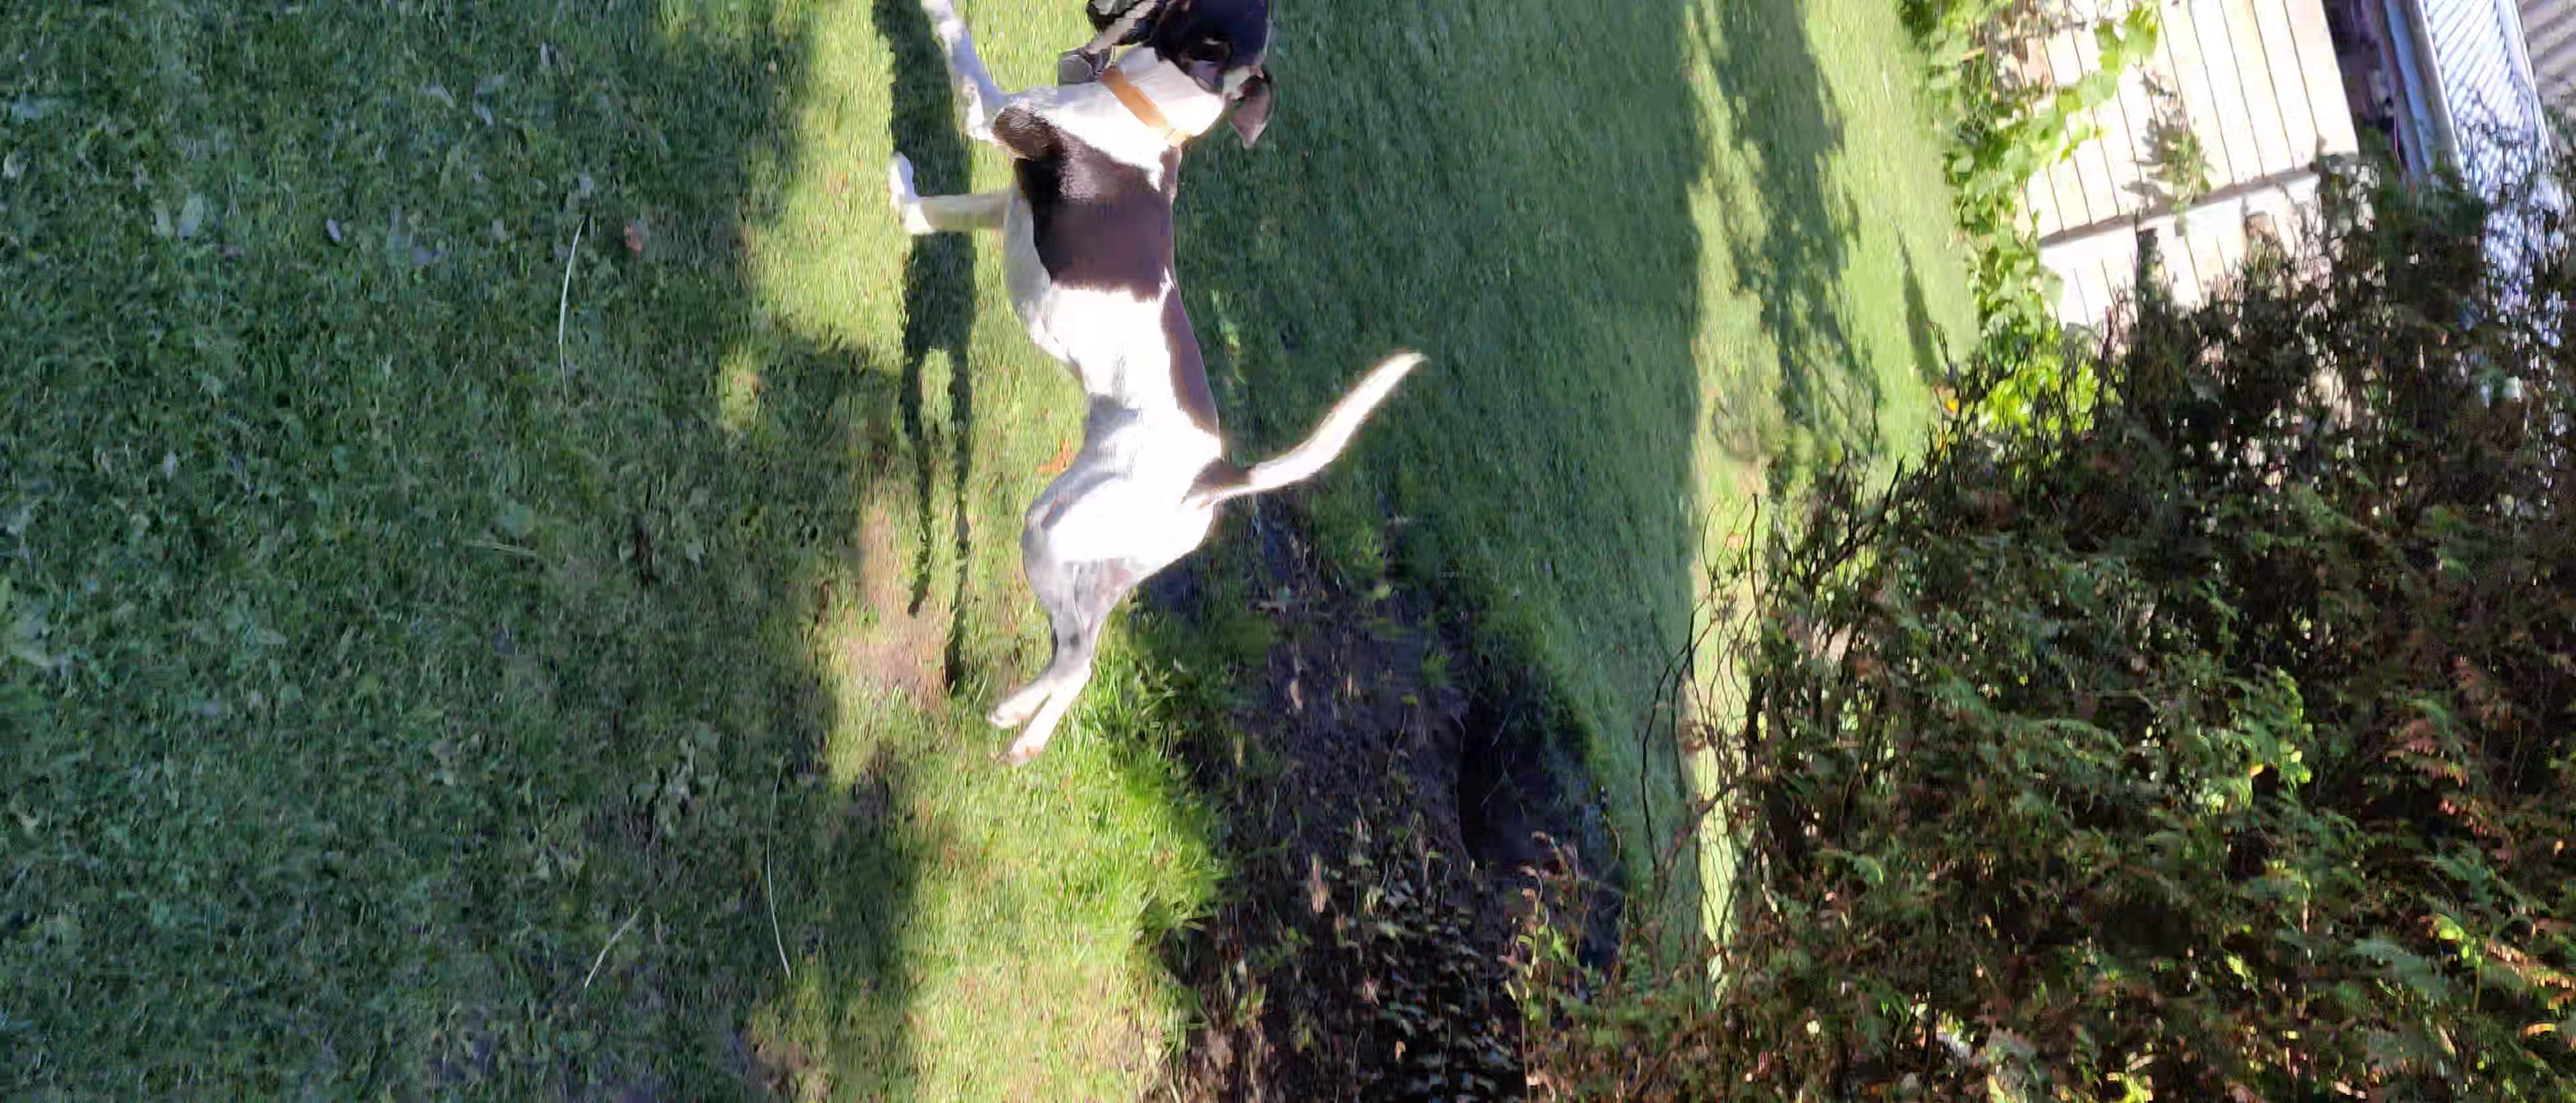Dog: (882, 0, 1442, 774)
